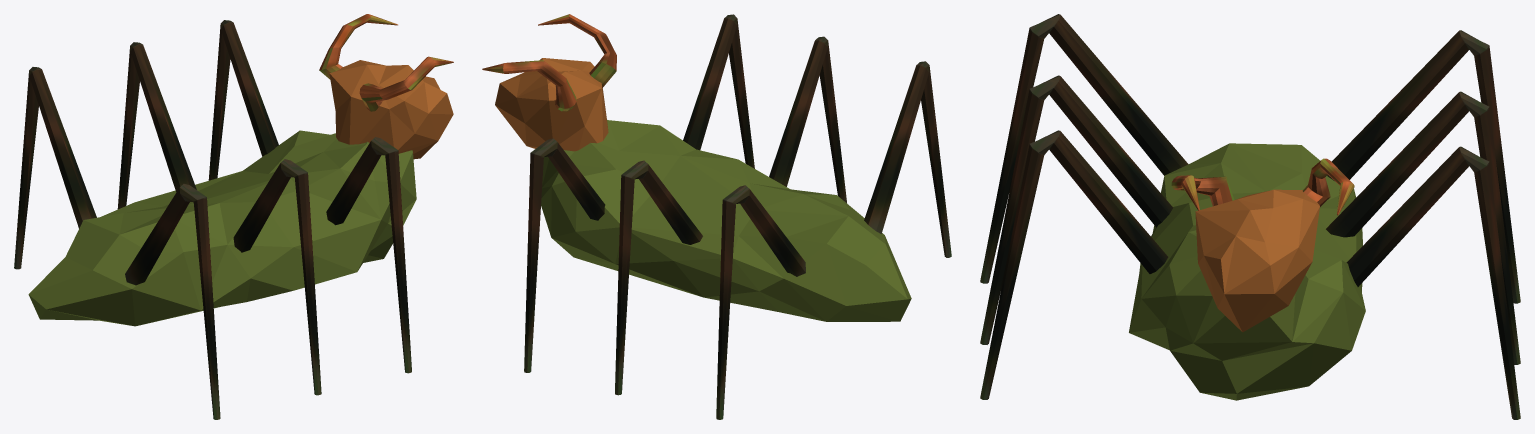
Rendered from crawler.glb.
The picture shows the model from 3 angles, left to right: view 1: azimuth 30°, elevation 25°; view 2: azimuth 150°, elevation 25°; view 3: azimuth 270°, elevation 25°; orthographic projection. The views are drawn at different scales.
Visible parts, largest first — view 1: Cube.003, Icosphere.002, leg.003, leg.002, leg.001, leg, leg.004, leg.005, branch.015, branch.014; view 2: Cube.003, Icosphere.002, leg.002, leg.003, leg.004, leg.001, leg.005, leg, branch.014, branch.015; view 3: Cube.003, Icosphere.002, leg.002, leg, leg.005, leg.001, leg.003, leg.004, branch.014, branch.015.
Part boxes in pixels (x1=…): Cube.003: x1=28, y1=130, x2=416, y2=326; Icosphere.002: x1=329, y1=60, x2=453, y2=159; leg.003: x1=14, y1=67, x2=96, y2=269; leg.002: x1=125, y1=184, x2=220, y2=419; leg.001: x1=233, y1=159, x2=321, y2=395; leg: x1=326, y1=137, x2=411, y2=373; leg.004: x1=117, y1=42, x2=196, y2=209; leg.005: x1=208, y1=20, x2=278, y2=180; branch.015: x1=359, y1=56, x2=453, y2=111; branch.014: x1=319, y1=14, x2=397, y2=79; Cube.003: x1=541, y1=120, x2=911, y2=321; Icosphere.002: x1=495, y1=58, x2=608, y2=151; leg.002: x1=864, y1=61, x2=951, y2=257; leg.003: x1=716, y1=185, x2=805, y2=419; leg.004: x1=615, y1=160, x2=702, y2=395; leg.001: x1=769, y1=36, x2=846, y2=202; leg.005: x1=524, y1=138, x2=605, y2=372; leg: x1=683, y1=14, x2=754, y2=168; branch.014: x1=482, y1=60, x2=576, y2=111; branch.015: x1=538, y1=14, x2=616, y2=87; Cube.003: x1=1129, y1=143, x2=1365, y2=400; Icosphere.002: x1=1195, y1=189, x2=1319, y2=332; leg.002: x1=980, y1=14, x2=1188, y2=283; leg: x1=980, y1=130, x2=1168, y2=399; leg.005: x1=1346, y1=146, x2=1520, y2=419; leg.001: x1=980, y1=75, x2=1172, y2=344; leg.003: x1=1327, y1=30, x2=1520, y2=303; leg.004: x1=1326, y1=91, x2=1520, y2=364; branch.014: x1=1302, y1=158, x2=1354, y2=215; branch.015: x1=1171, y1=175, x2=1234, y2=210.
Bounding box in the file's own units: 4.65 × 2.59 × 4.26.
Materials: 10 (10 with a texture image).
